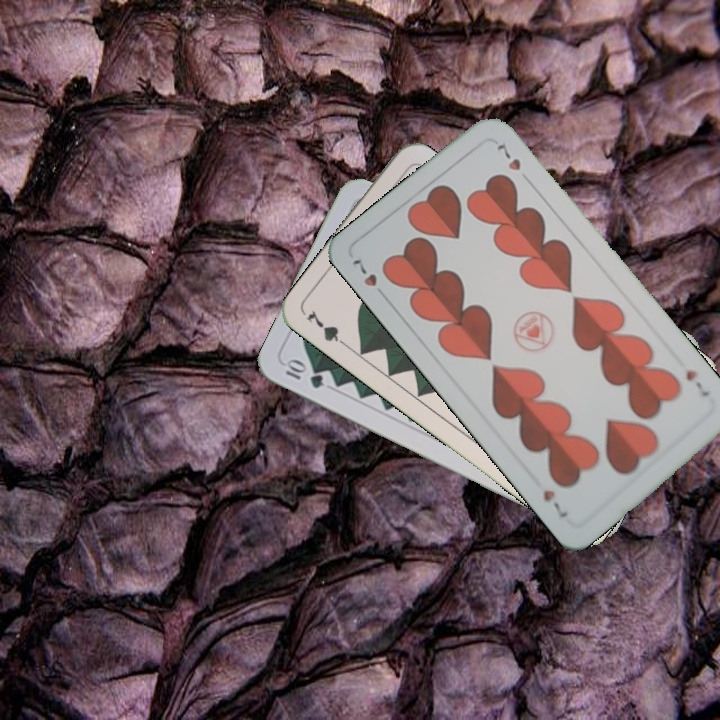G10: (281, 356, 326, 392)
G7: (302, 306, 353, 352)
H7: (348, 255, 390, 303), (681, 366, 712, 400)
